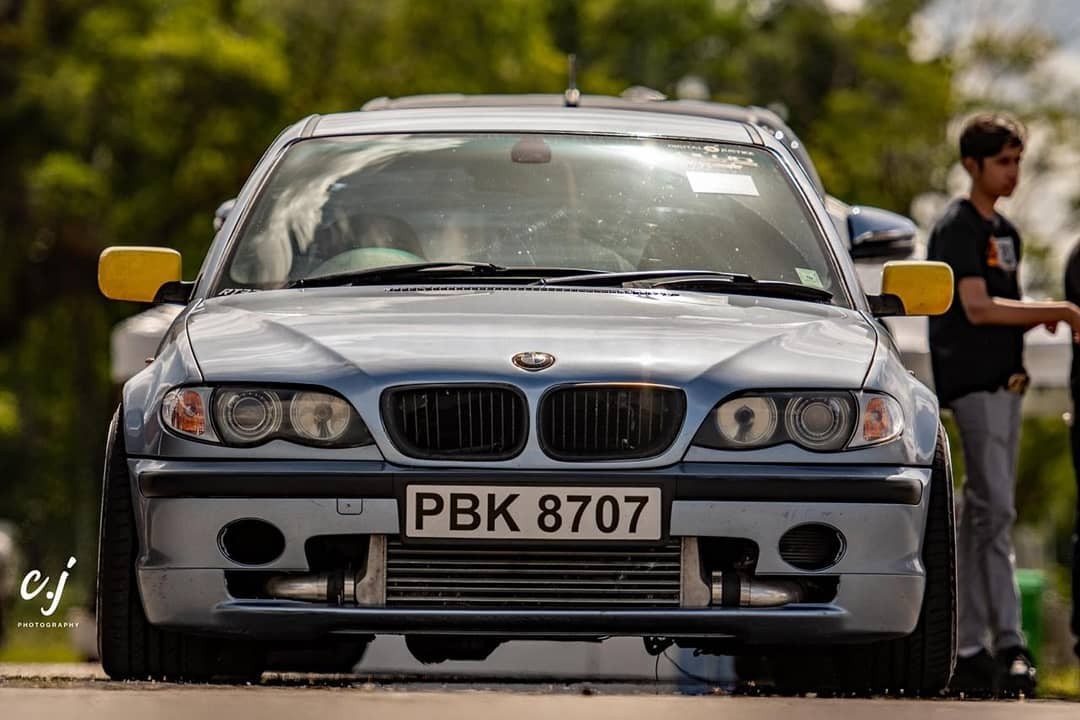License-Plate: (408, 485, 659, 534)
